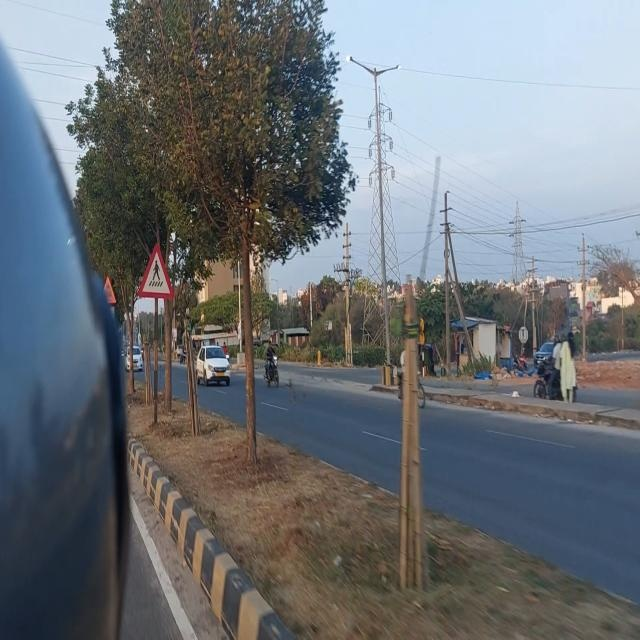bien_nguy_hiem: (138, 242, 174, 302)
